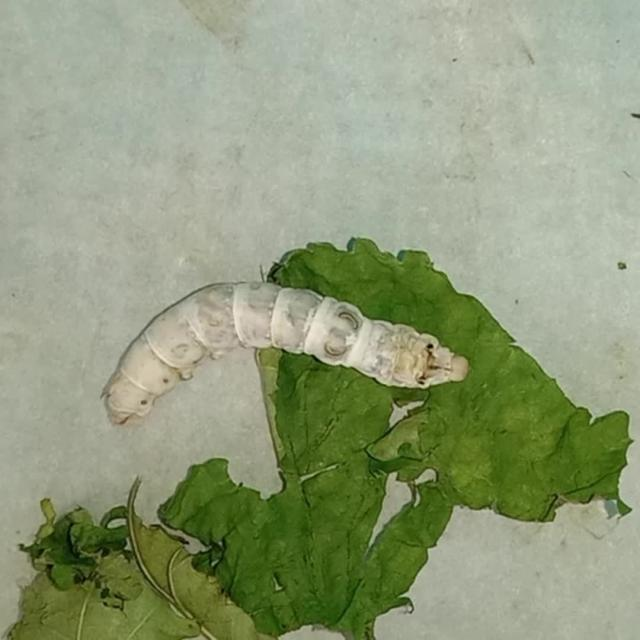Grasserie: (95, 266, 472, 444)
